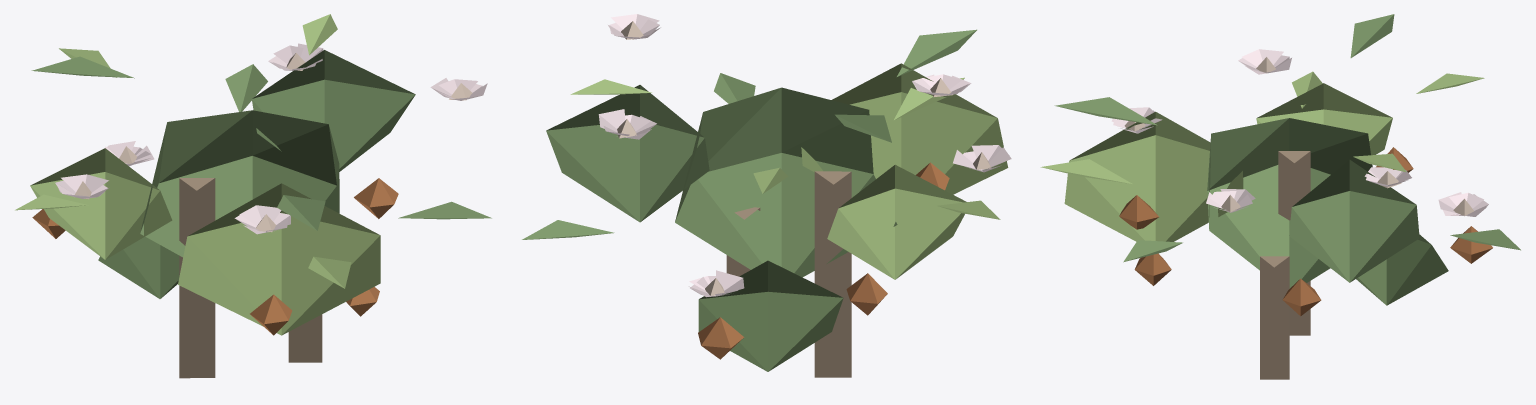
File: nong.da__spring.glb
3 views of the same model, side by side, from view 1: azimuth 30°, elevation 25°; view 2: azimuth 150°, elevation 25°; view 3: azimuth 270°, elevation 25° (orthographic). The views are drawn at different scales.
Visible parts, largest first — view 1: nong.da__spring; view 2: nong.da__spring; view 3: nong.da__spring.
Part boxes in pixels (x1,y1,x2,y2): nong.da__spring: (15,14,491,378); nong.da__spring: (522,14,1011,377); nong.da__spring: (1040,14,1520,379).
Bounding box in the file's own units: 1.42 × 0.966 × 1.51.
